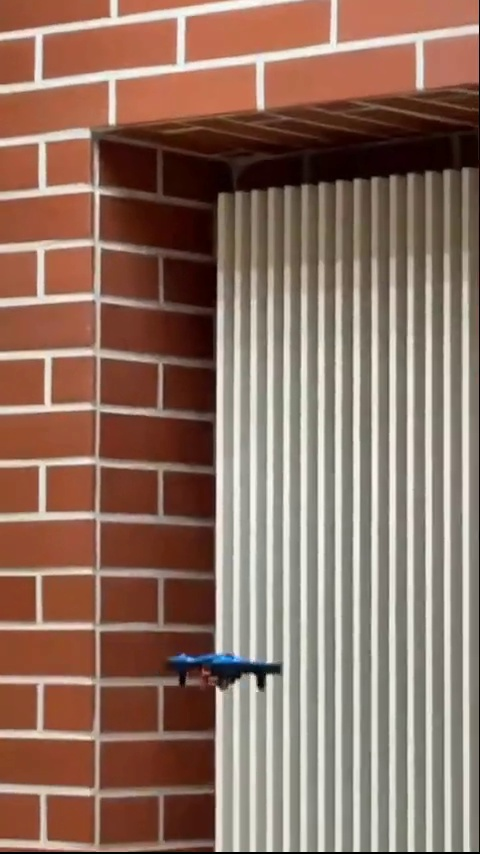drone: (168, 644, 283, 697)
